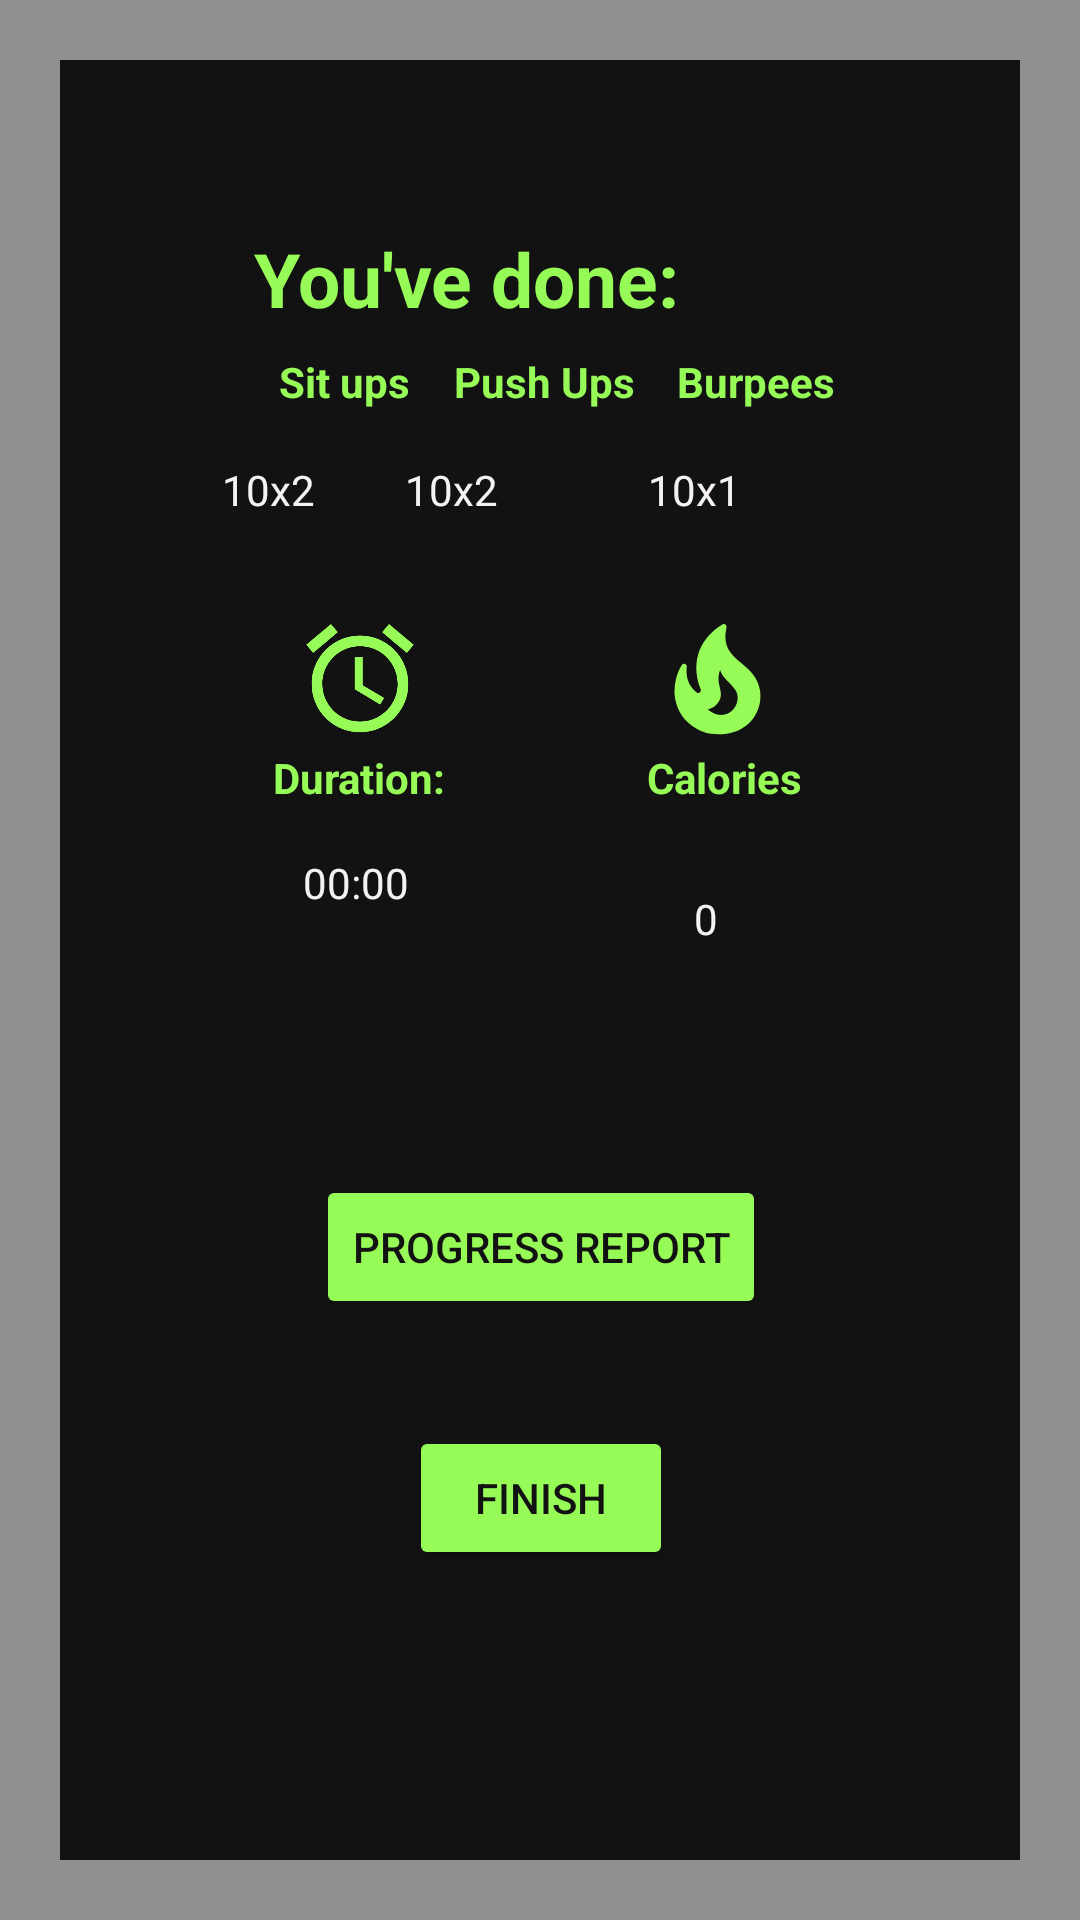

Screen size 1080 x 1920. Icon name, then its center in pixels as (x,y):
access alarm: (360,678)
local fire department: (717,679)
